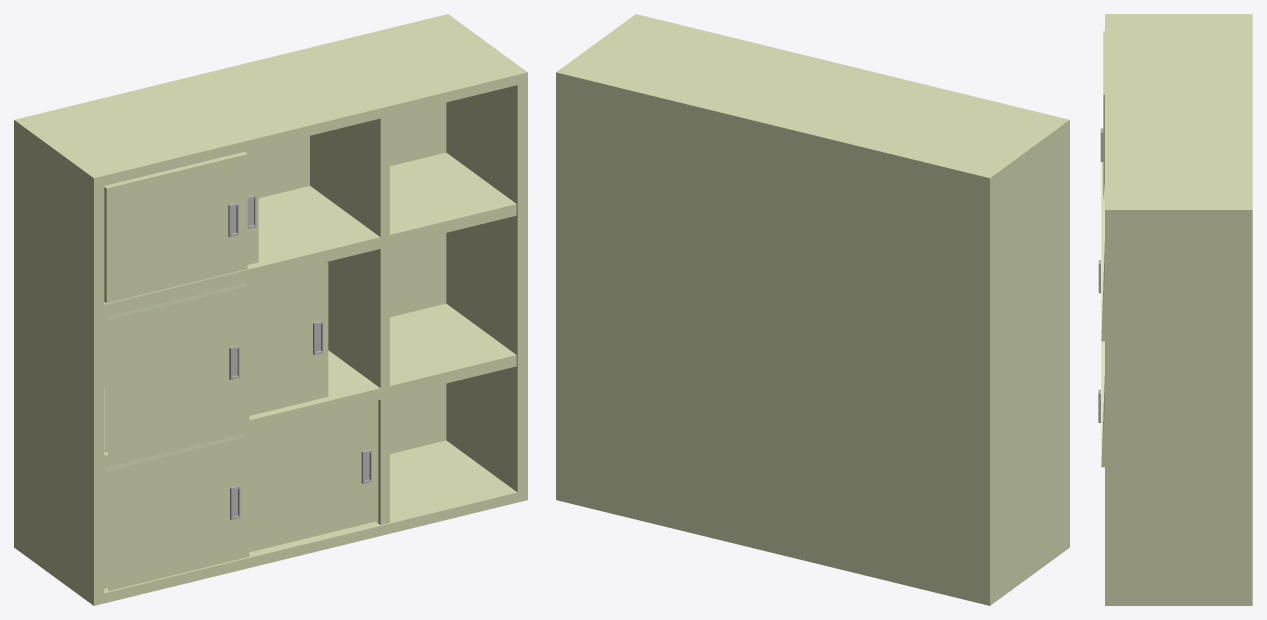
The model's file is 藥局檔案櫃.fbx.
3 views of the same model, side by side, from view 1: azimuth 30°, elevation 25°; view 2: azimuth 150°, elevation 25°; view 3: azimuth 270°, elevation 25° (orthographic). The views are drawn at different scales.
Parts seen in each view (by area): view 1: 藥局檔案櫃; view 2: 藥局檔案櫃; view 3: 藥局檔案櫃.
Part boxes in pixels (x1,y1,x2,y2): 藥局檔案櫃: [14, 14, 527, 605]; 藥局檔案櫃: [556, 14, 1069, 605]; 藥局檔案櫃: [1098, 14, 1252, 605].
Bounding box in the file's own units: 321 × 303 × 107.
